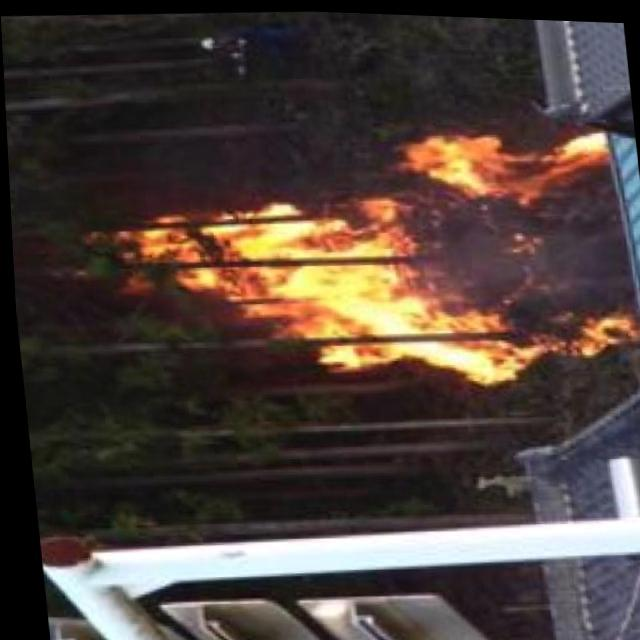fire: (108, 117, 640, 396)
